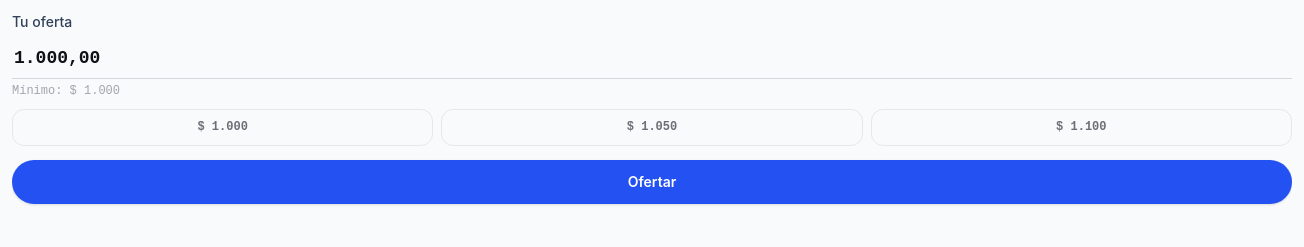
Test: PlaceBidButton › un monto por debajo del mínimo muestra error y deshabilita el envío
Step 1. Replace the text in the field labelled "Tu oferta" with "500" → (652,58), box [12, 38, 1292, 79]
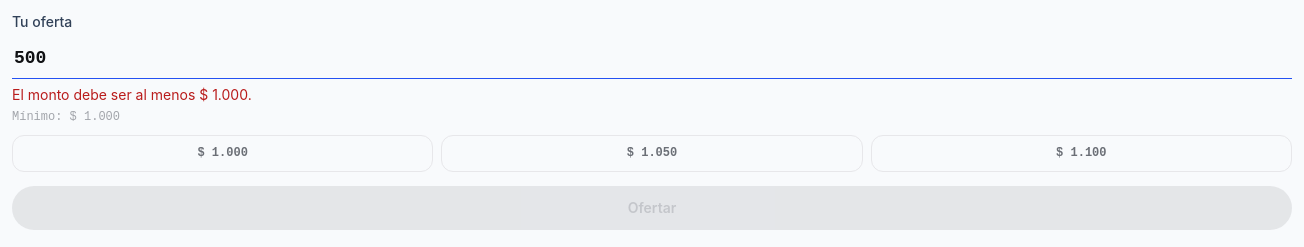
Check: the button "Ofertar" is disabled, box [12, 186, 1292, 230]
Check: the text "El monto debe ser al menos $ 1.000." is shown, box [12, 86, 252, 103]
